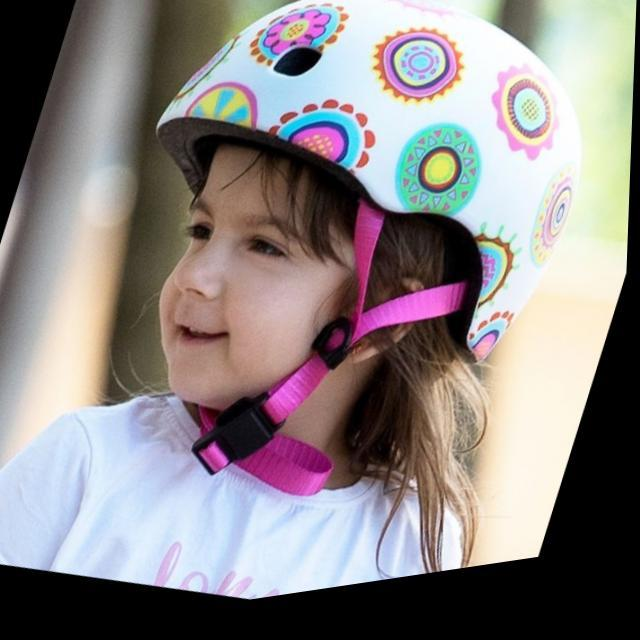Helmet: (152, 0, 582, 421)
